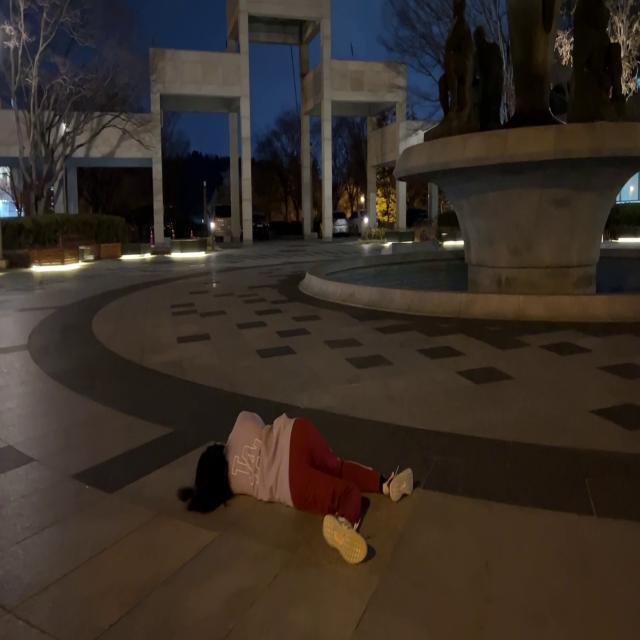Fall: (178, 413, 414, 565)
